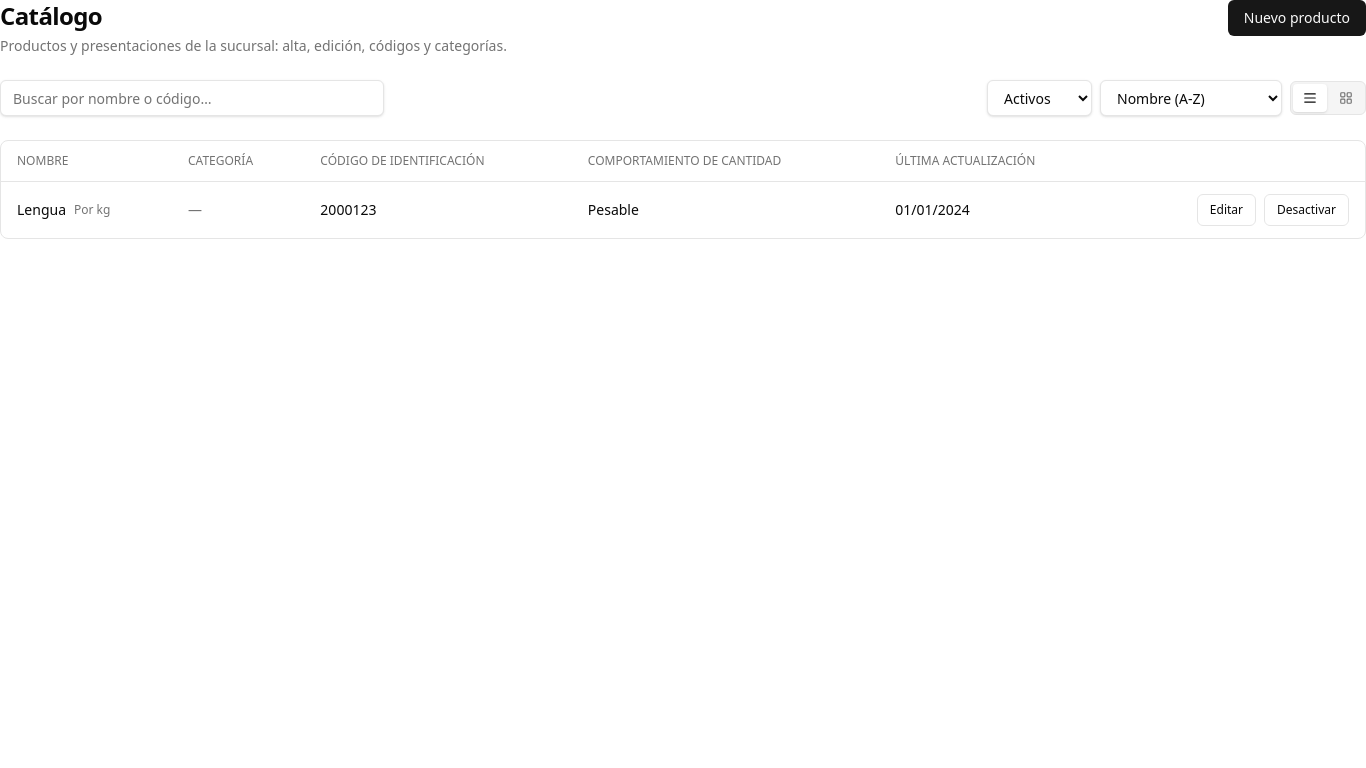
CatalogScreen › product name › names the product in the deactivation confirmation
expect the text "Lengua" is shown: met, box [17,200,66,220]
Click the button "Desactivar" at x=1306, y=210, box [1264,194,1349,226]
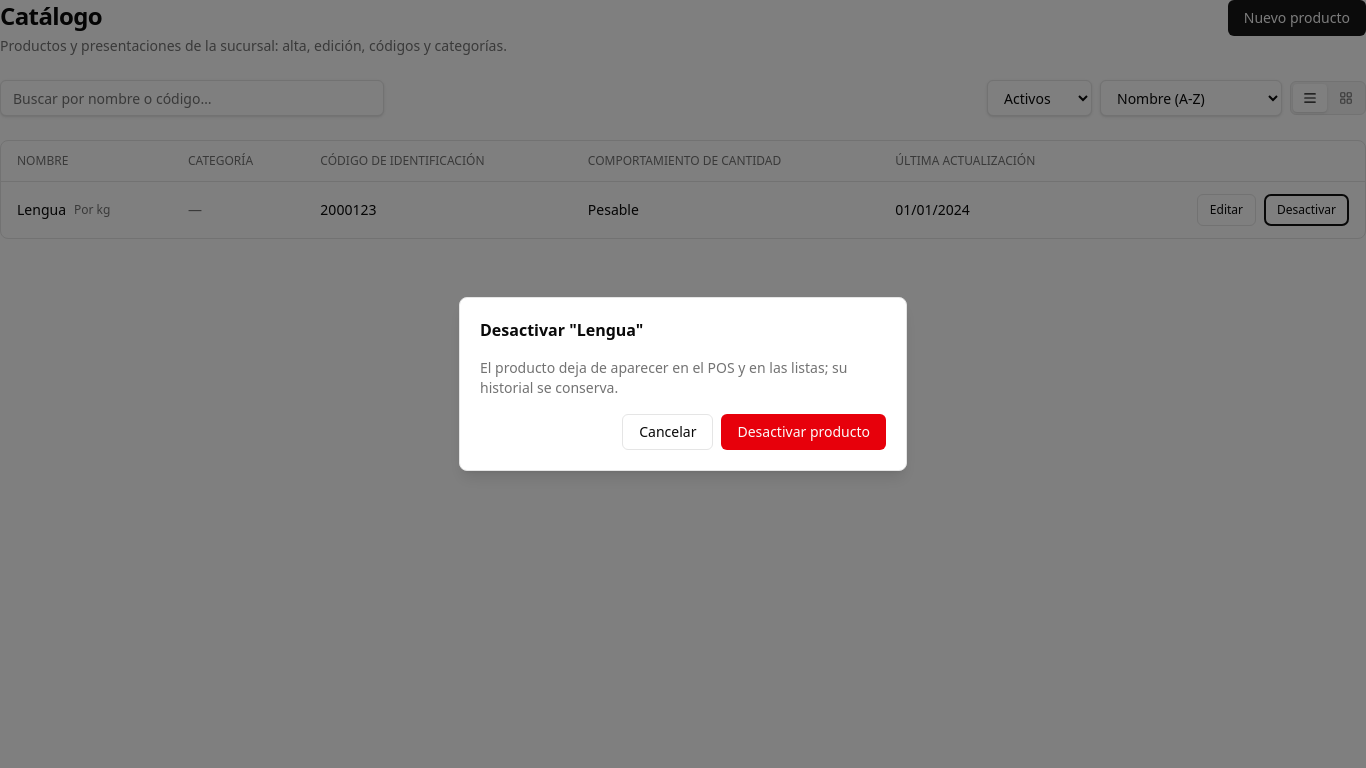
expect the heading "Desactivar \"Lengua\"" is shown: met, box [480,319,643,341]
